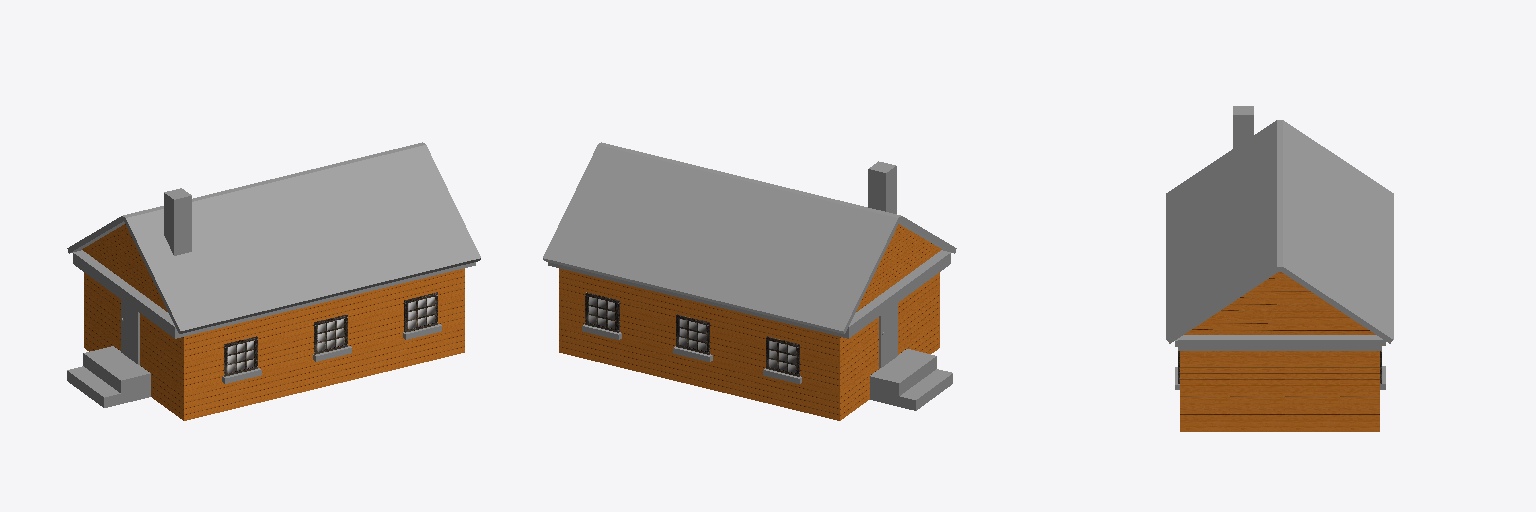
3 renders of one model, left to right at view 1: azimuth 30°, elevation 25°; view 2: azimuth 150°, elevation 25°; view 3: azimuth 270°, elevation 25°, orthographic.
Visible parts, largest first — view 1: Cube.016; view 2: Cube.016; view 3: Cube.016.
Boxes of the visible parts, x1,y1,x2,y2 form: Cube.016: [67, 142, 480, 420]; Cube.016: [543, 142, 956, 420]; Cube.016: [1166, 106, 1393, 431].
Bounding box in the file's own units: 20.28 × 11.36 × 11.83.
Materials: 7 (2 with a texture image).